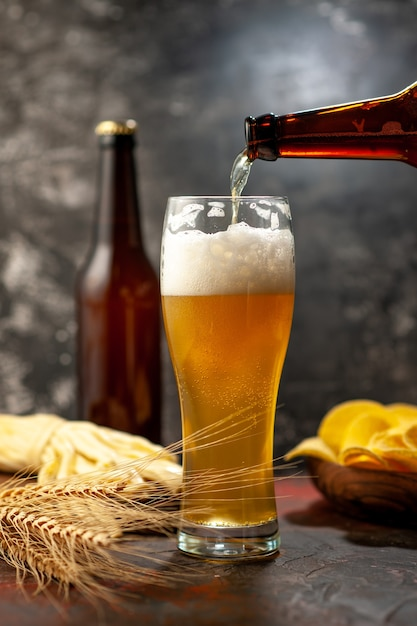alcohol: (157, 190, 296, 560), (74, 121, 166, 452), (246, 78, 417, 166)
